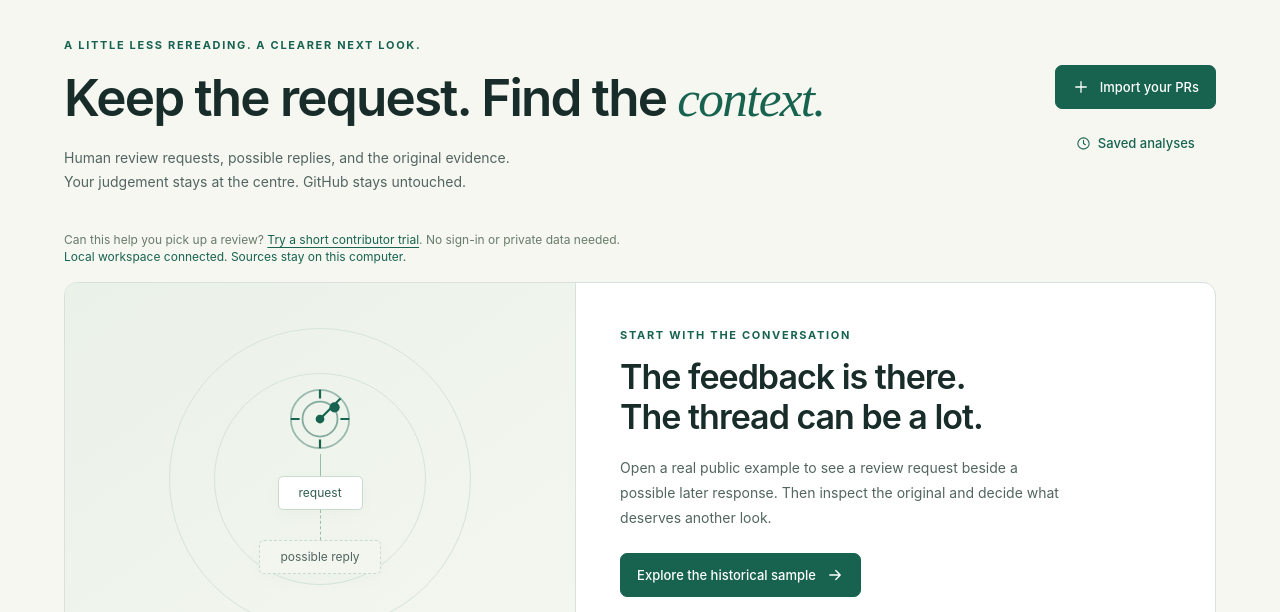
evidence workbench integration (DOM simulation, not a visual browser audit) › keeps an unsaved note when inspecting Sources and returning
Click the button "Explore the historical sample" at (740, 575), box 620,553 -> 861,597
(page scrolled)
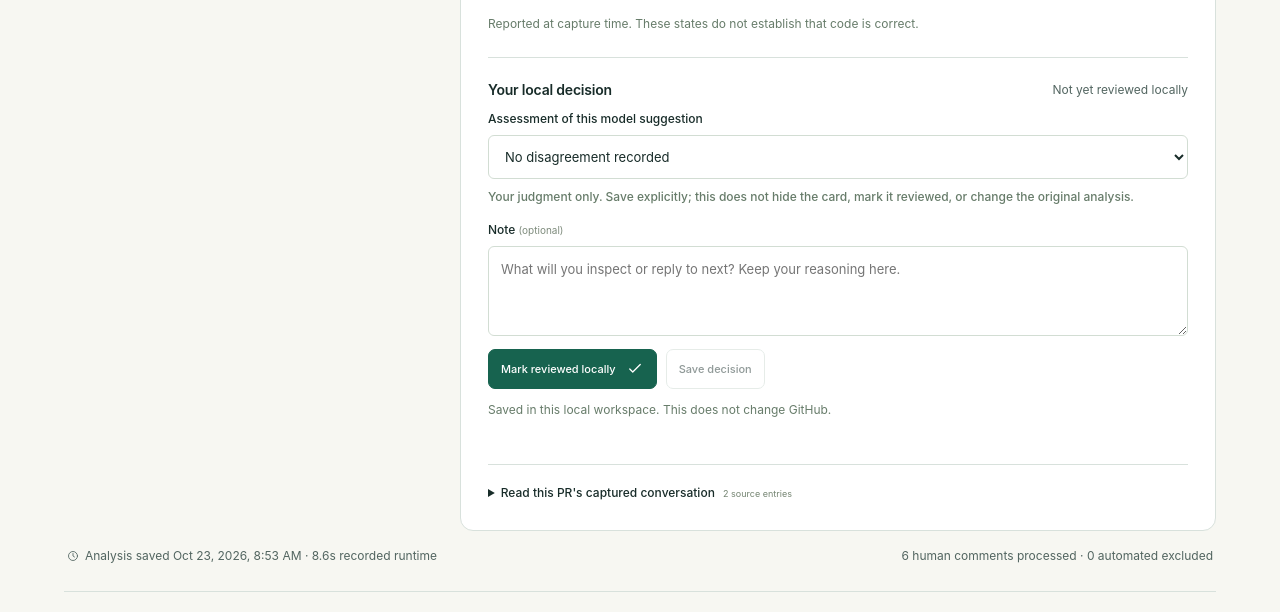
Result: the button "Mark reviewed locally" is shown at 488,349 -> 657,389
Type "Inspect the actual patch separately" into the text box labelled "Note (optional)" at (838, 291), box 488,246 -> 1188,336
(page scrolled)
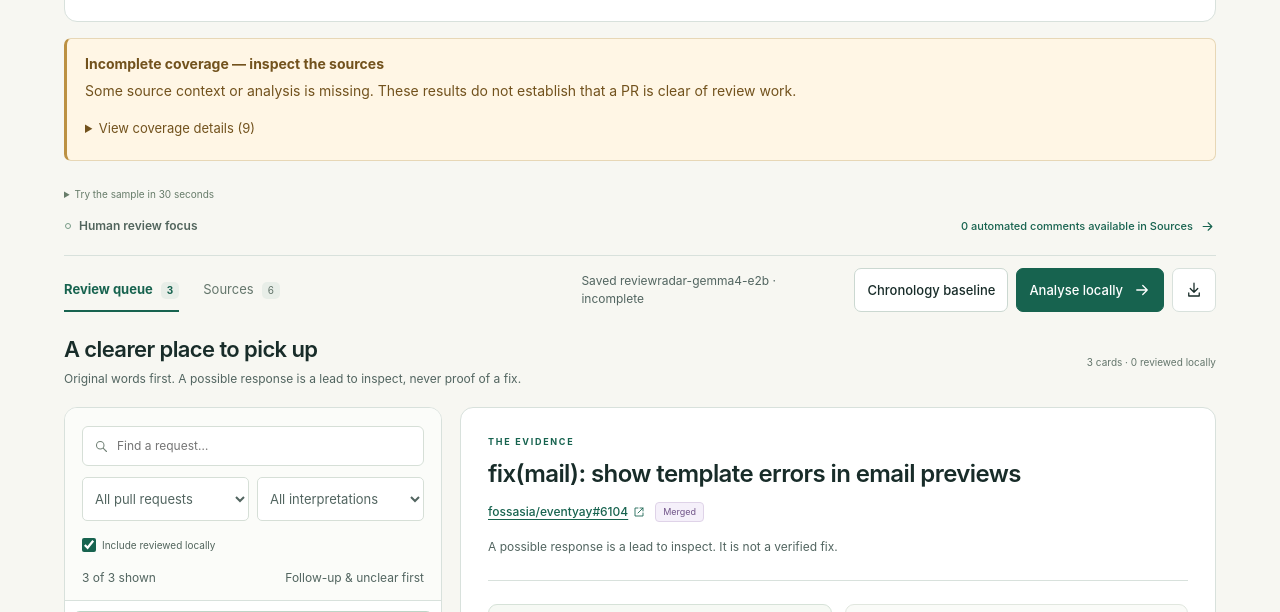
Click the button "Sources 6" at (242, 290), box 203,268 -> 280,312
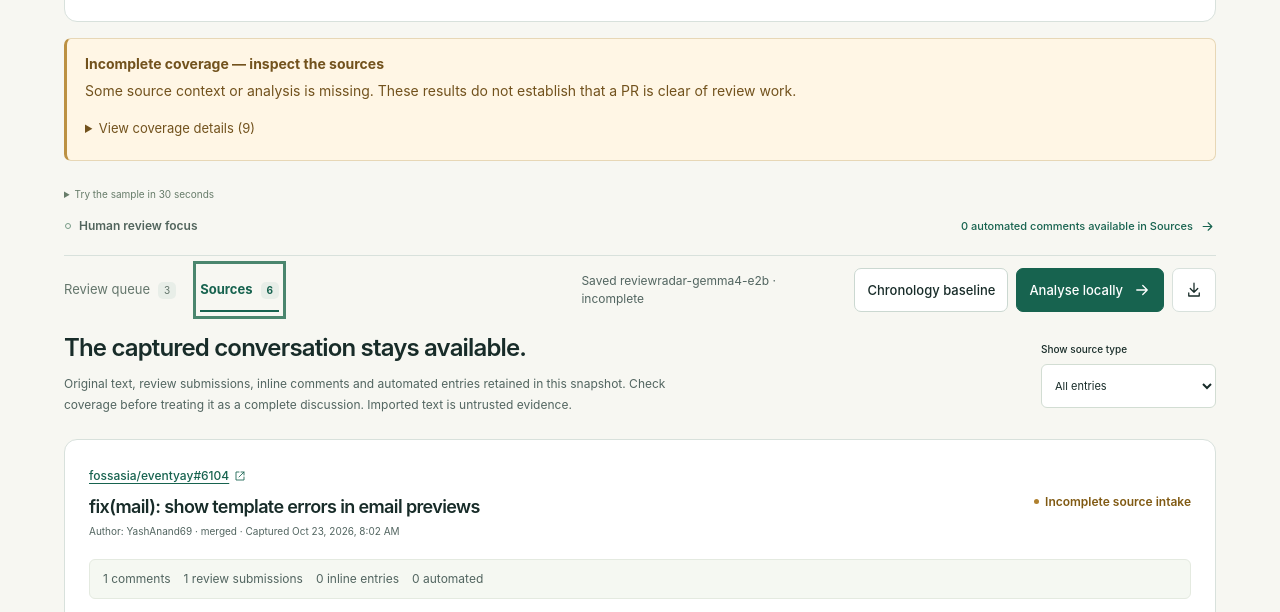
Click the button "Review queue 3" at (120, 290), box 64,268 -> 176,312
(page scrolled)
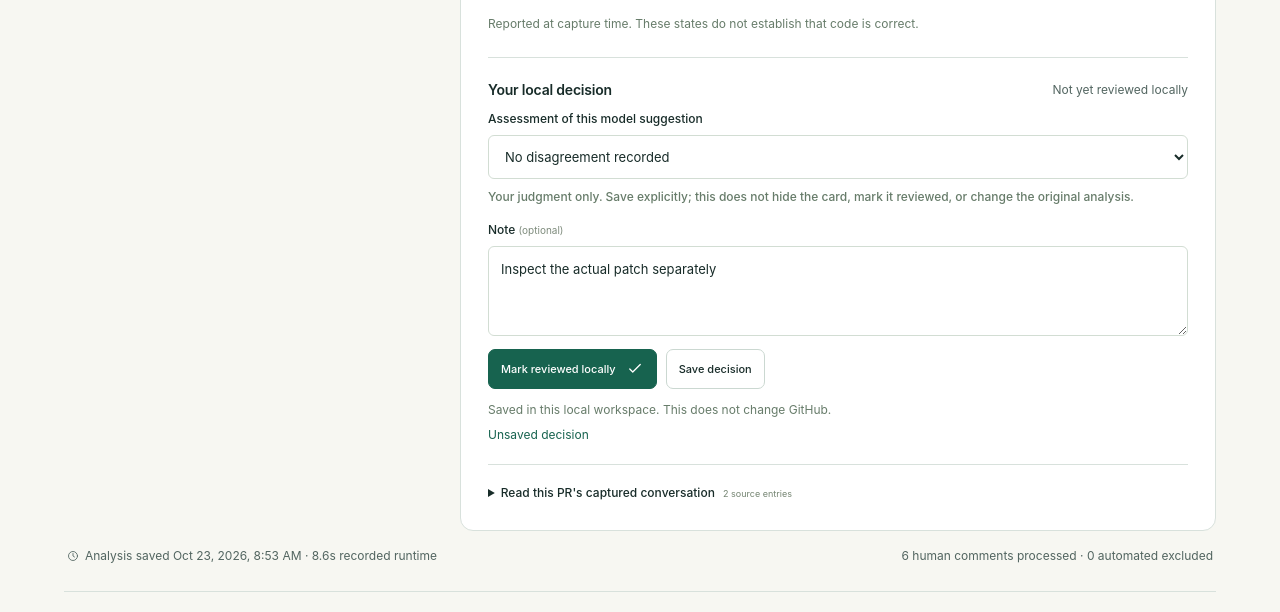
Result: the text box labelled "Note (optional)" holds "Inspect the actual patch separately" at 488,246 -> 1188,336
